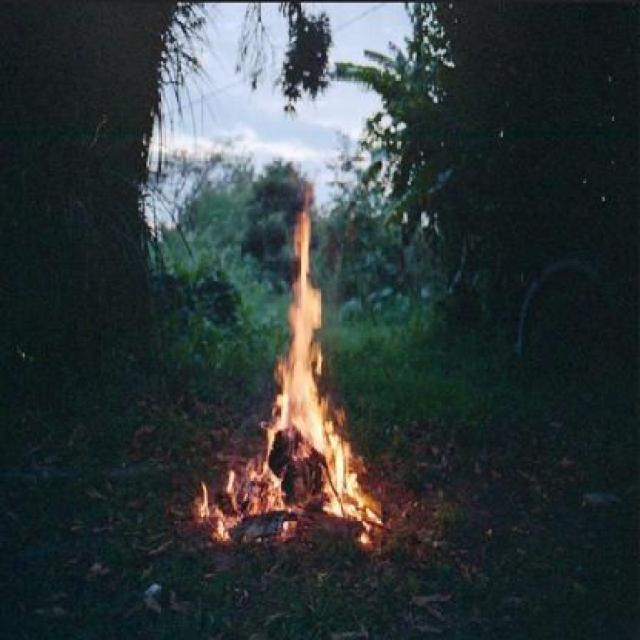Fire: (198, 168, 398, 565)
